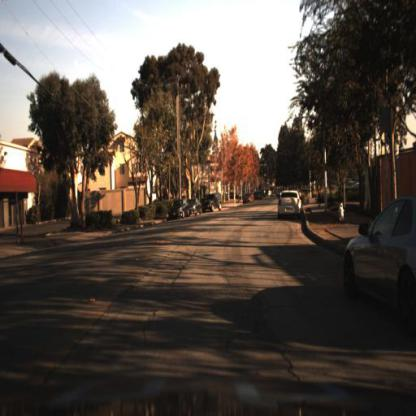car: (343, 197, 416, 328), (270, 185, 306, 227), (165, 197, 192, 225), (203, 193, 229, 219), (190, 196, 202, 220)
pedestrian: (315, 180, 326, 218)
